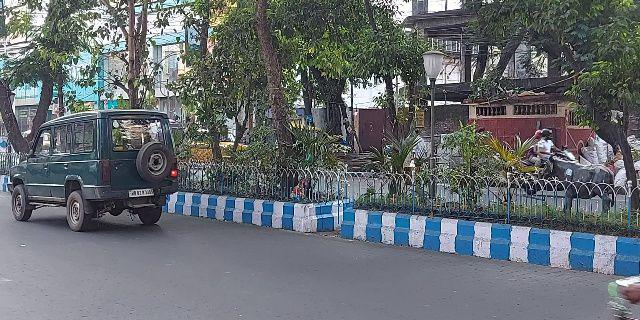Car: (11, 106, 181, 232)
